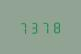eight: (51, 19, 61, 33)
seven: (18, 20, 28, 34), (40, 19, 50, 33)
three: (29, 20, 39, 34)
